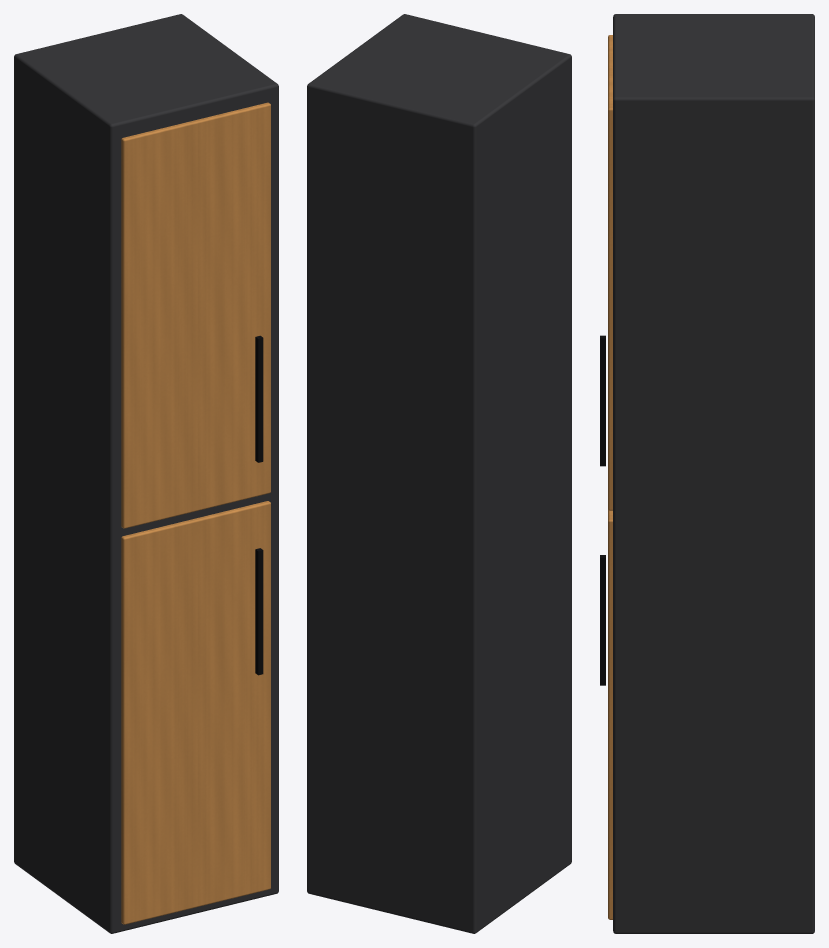
Rendered from kitob-javoni-library.glb.
3 views of the same model, side by side, from view 1: azimuth 30°, elevation 25°; view 2: azimuth 150°, elevation 25°; view 3: azimuth 270°, elevation 25° (orthographic). The views are drawn at different scales.
Parts seen in each view (by area): view 1: furniture; view 2: furniture; view 3: furniture.
Part boxes in pixels (box(x1,y1,x2,y2)): furniture: box(14, 14, 278, 933); furniture: box(307, 14, 571, 933); furniture: box(600, 14, 814, 933).
Bounding box in the file's own units: 0.4 × 1.83 × 0.426.
3 materials, 1 textured.
